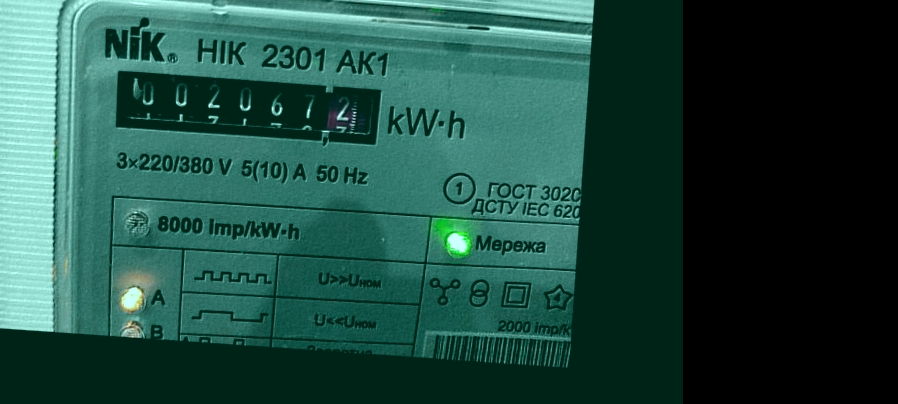0: (137, 78, 157, 108), (234, 82, 254, 112), (171, 78, 190, 108)
2: (333, 92, 353, 122), (204, 80, 223, 110)
6: (267, 88, 287, 118)
7: (300, 90, 318, 121)
screen: (99, 56, 396, 158)
